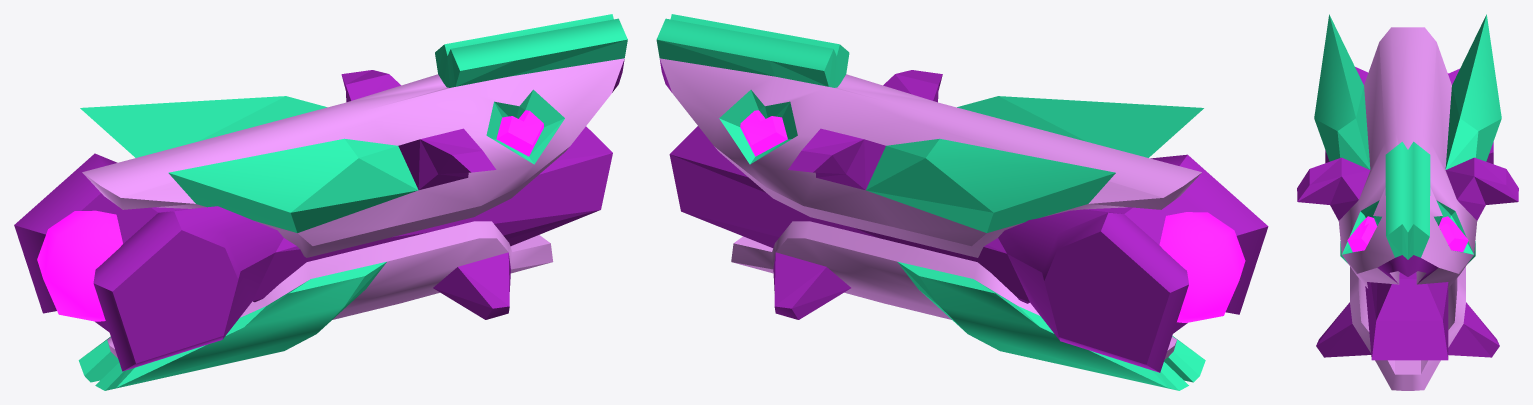
The model's file is heart_gun.glb.
The picture shows the model from 3 angles, left to right: view 1: azimuth 30°, elevation 25°; view 2: azimuth 150°, elevation 25°; view 3: azimuth 270°, elevation 25°; orthographic projection. The views are drawn at different scales.
Visible parts, largest first — view 1: KawaiiGun; view 2: KawaiiGun; view 3: KawaiiGun.
Part boxes in pixels (left/top/right/bottom): KawaiiGun: left=14, top=14, right=627, bottom=390; KawaiiGun: left=656, top=14, right=1268, bottom=390; KawaiiGun: left=1297, top=14, right=1518, bottom=390.
Bounding box in the file's own units: 1.01 × 0.4305 × 0.379.
